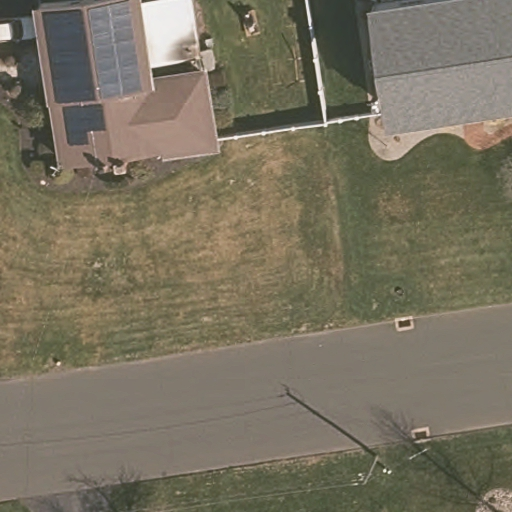DT: (353, 455, 393, 486)
